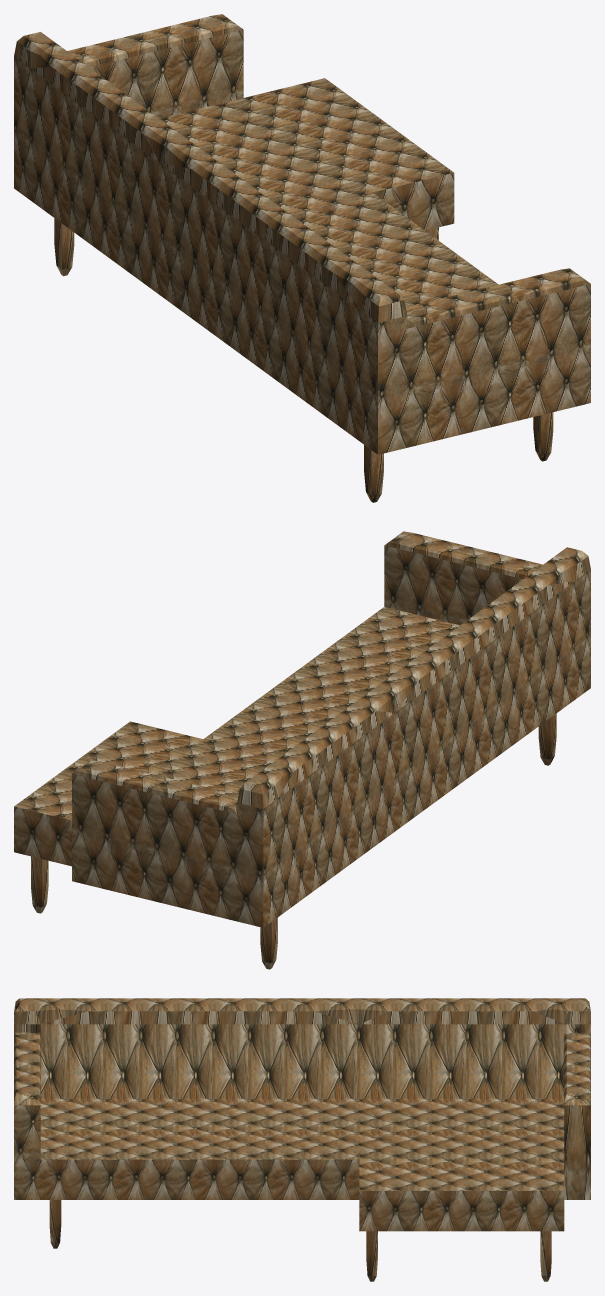
Rendered from BankBeenStukU.fbx.
The picture shows the model from 3 angles, top to bottom: view 1: azimuth 30°, elevation 25°; view 2: azimuth 150°, elevation 25°; view 3: azimuth 270°, elevation 25°; orthographic projection. The views are drawn at different scales.
Parts seen in each view (by area): view 1: Cube.010; view 2: Cube.010; view 3: Cube.010.
Boxes of the visible parts, x1,y1,x2,y2 form: Cube.010: (14, 14, 590, 502); Cube.010: (14, 531, 590, 969); Cube.010: (14, 998, 590, 1281).
Size of the model in its own units: 503 by 367 by 1079.
